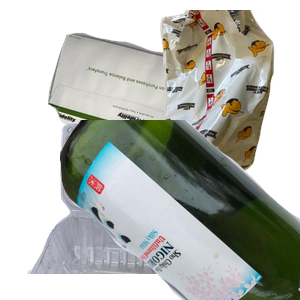glass: (60, 120, 300, 300)
paper: (45, 30, 281, 195)
plastic: (25, 120, 245, 300)
trash: (127, 10, 300, 190)
